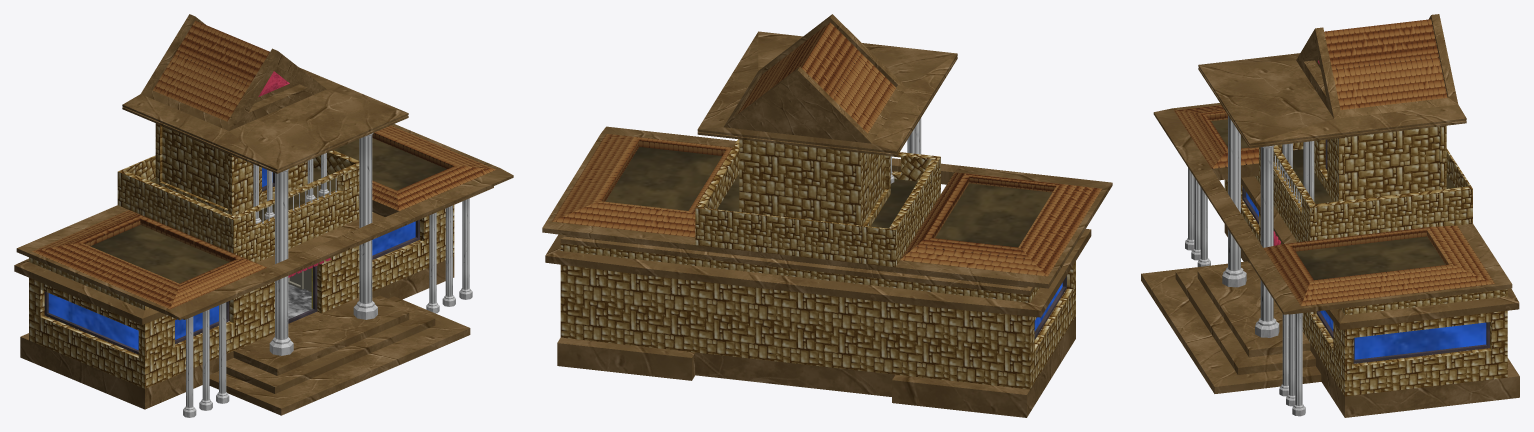
File: Bank+1.glb
3 views of the same model, side by side, from view 1: azimuth 30°, elevation 25°; view 2: azimuth 150°, elevation 25°; view 3: azimuth 270°, elevation 25° (orthographic). The views are drawn at different scales.
Parts seen in each view (by area): view 1: Bank_+1; view 2: Bank_+1; view 3: Bank_+1.
Part boxes in pixels (left/top/right/bottom): Bank_+1: left=14, top=14, right=513, bottom=417; Bank_+1: left=542, top=14, right=1112, bottom=417; Bank_+1: left=1141, top=14, right=1519, bottom=417.
Size of the model in its own units: 3.38 by 2.04 by 2.38.
Materials: 18 (14 with a texture image).
